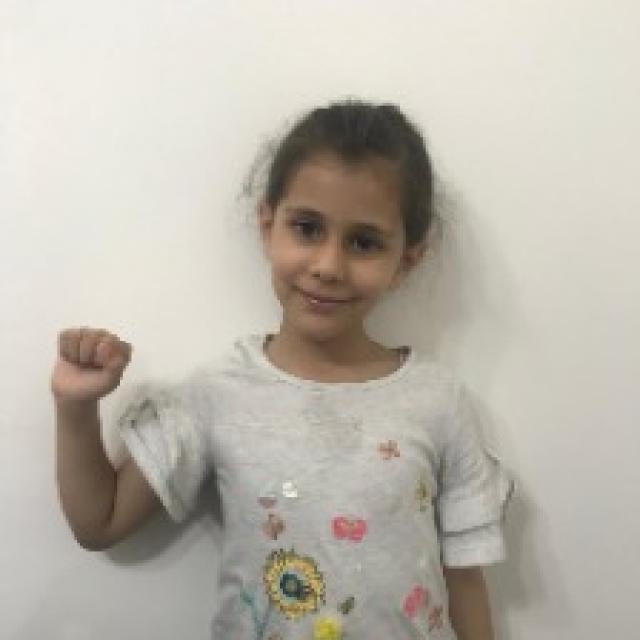yes: (45, 321, 138, 408)
